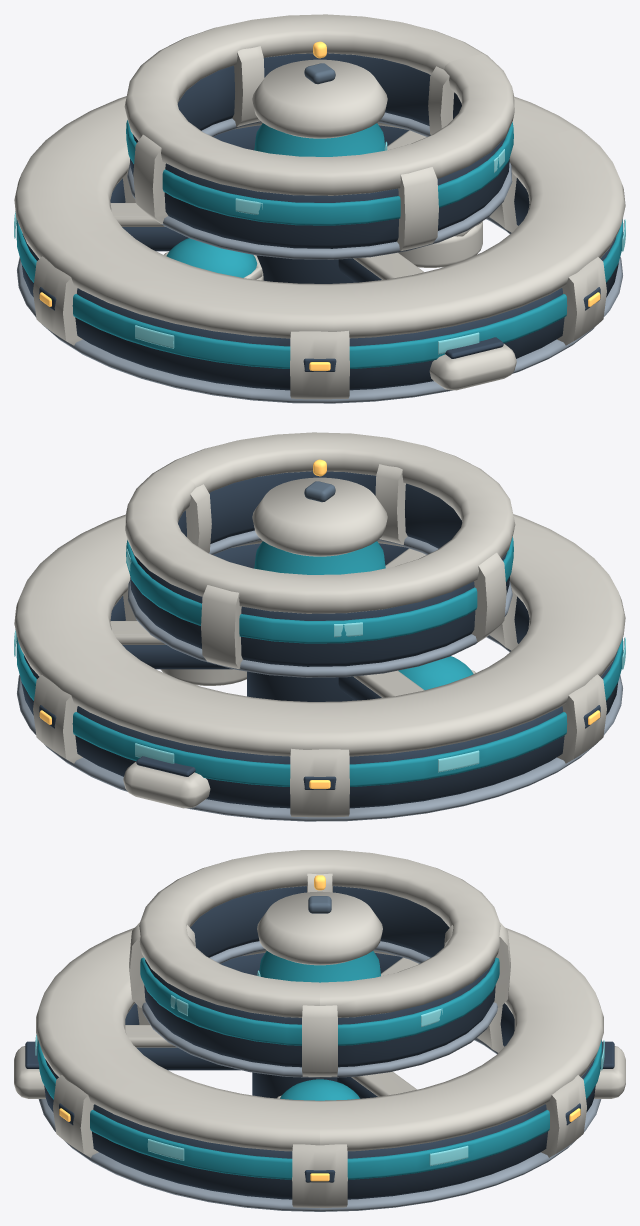
File: colony_ring_lv4.glb
The picture shows the model from 3 angles, top to bottom: view 1: azimuth 30°, elevation 25°; view 2: azimuth 150°, elevation 25°; view 3: azimuth 270°, elevation 25°; orthographic projection. The views are drawn at different scales.
Visible parts, largest first — view 1: Structure; view 2: Structure; view 3: Structure.
Boxes of the visible parts, bbox=[...] form: Structure: bbox=[14, 14, 625, 403]; Structure: bbox=[14, 432, 625, 821]; Structure: bbox=[14, 850, 625, 1211].
Bounding box in the file's own units: 9.04 × 4.02 × 9.34.
